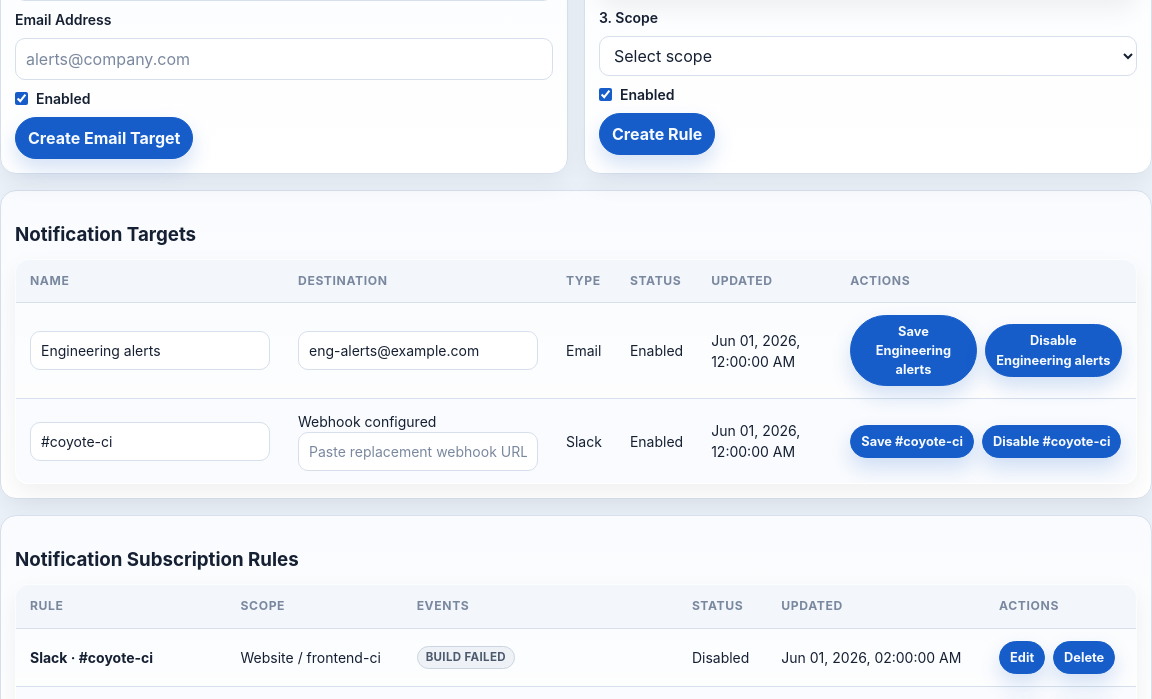
NotificationsPage › surfaces update-target API errors
The width and height of the screenshot is (1152, 699).
(page scrolled)
Click the button "Disable Engineering alerts": (1053, 351) left=985, top=324, right=1122, bottom=377
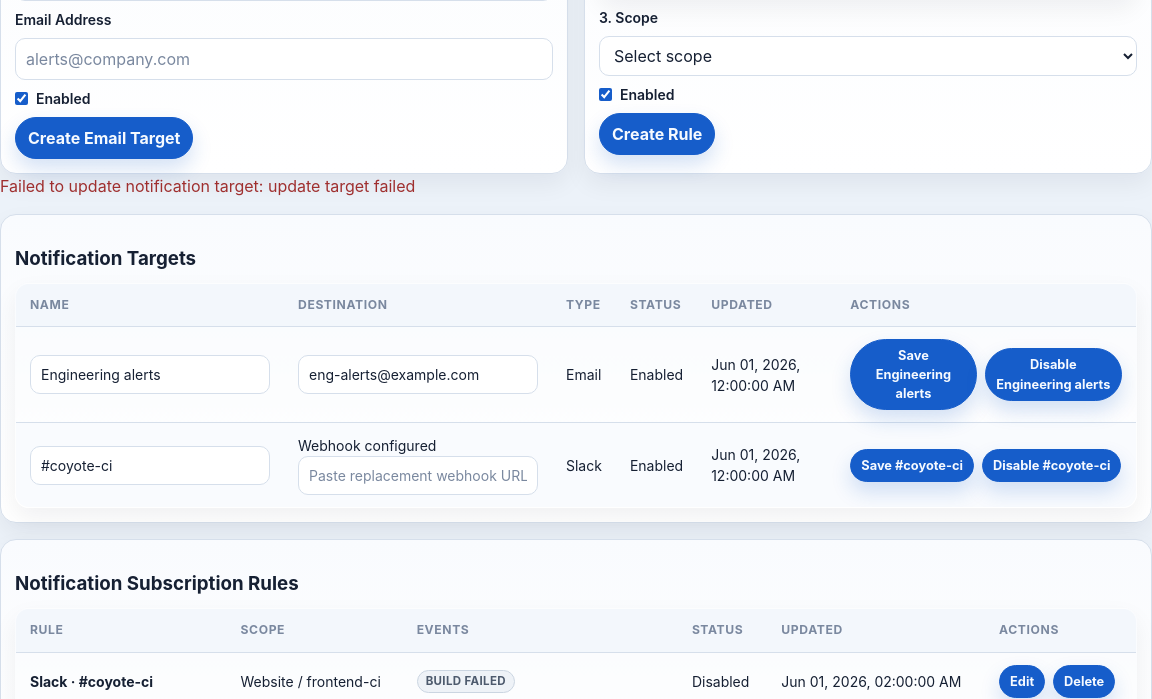
expect the text "Failed to update notification target: update target failed" is shown: met, box left=0, top=176, right=415, bottom=196
